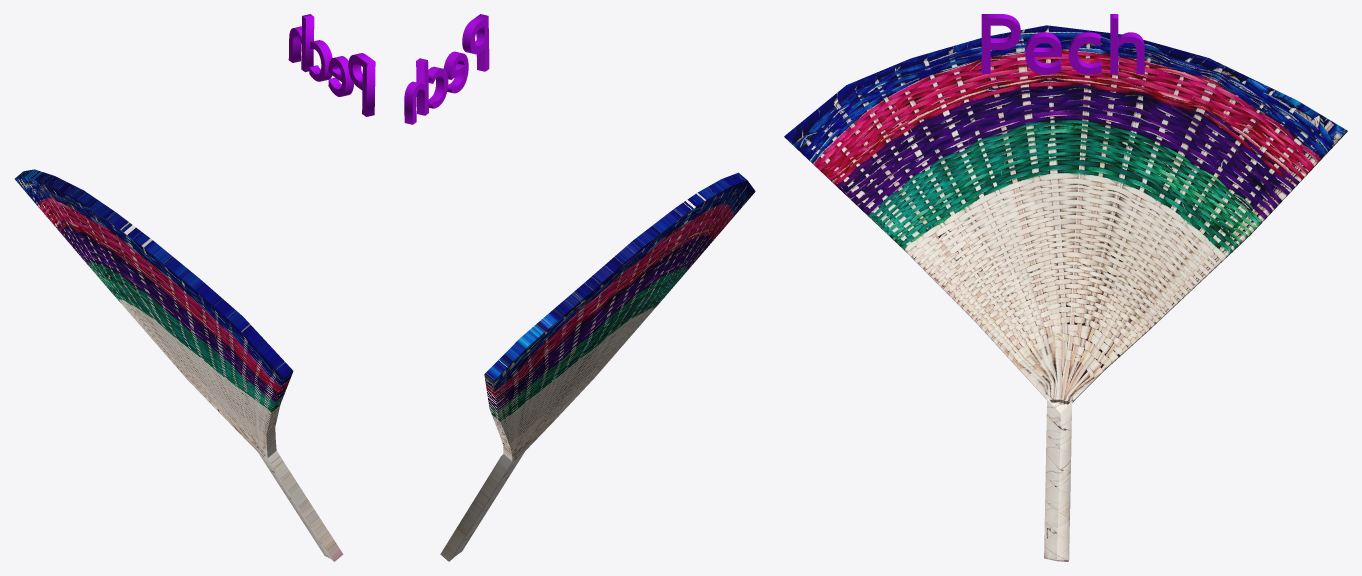
File: abanico.glb
The picture shows the model from 3 angles, left to right: view 1: azimuth 30°, elevation 25°; view 2: azimuth 150°, elevation 25°; view 3: azimuth 270°, elevation 25°; orthographic projection. The views are drawn at different scales.
Visible parts, largest first — view 1: Plano, sda; view 2: Plano, sda; view 3: Plano, sda.
Part boxes in pixels (bbox=[...]): Plano: bbox=[15, 169, 343, 561]; sda: bbox=[288, 14, 375, 116]; Plano: bbox=[440, 172, 755, 561]; sda: bbox=[404, 14, 489, 124]; Plano: bbox=[784, 25, 1347, 561]; sda: bbox=[981, 14, 1144, 74].
Size of the model in its own units: 2.34 by 4.93 by 4.59.
Materials: 2 (1 with a texture image).
